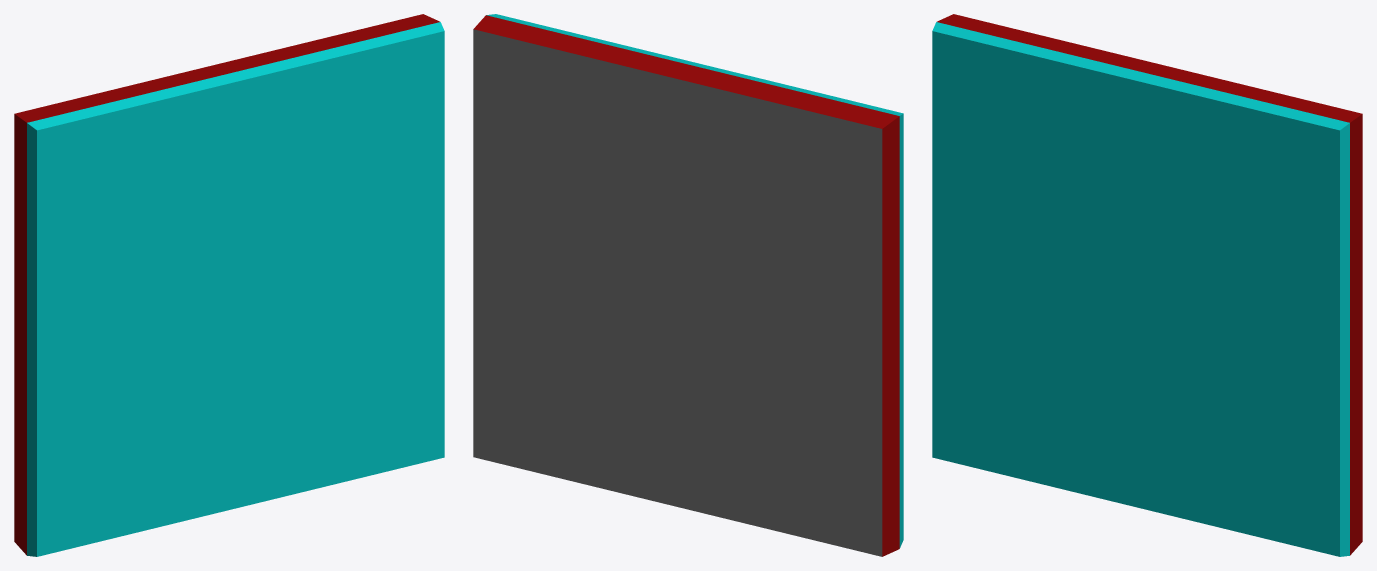
Rendered from blue_plate.fbx.
The picture shows the model from 3 angles, left to right: view 1: azimuth 30°, elevation 25°; view 2: azimuth 150°, elevation 25°; view 3: azimuth 330°, elevation 25°; orthographic projection.
Visible parts, largest first — view 1: blue_plate; view 2: blue_plate; view 3: blue_plate.
Part boxes in pixels (x1,y1,x2,y2): blue_plate: (14,14,444,556); blue_plate: (473,14,903,556); blue_plate: (932,14,1362,556).
Size of the model in its own units: 245 by 245 by 22.59.
